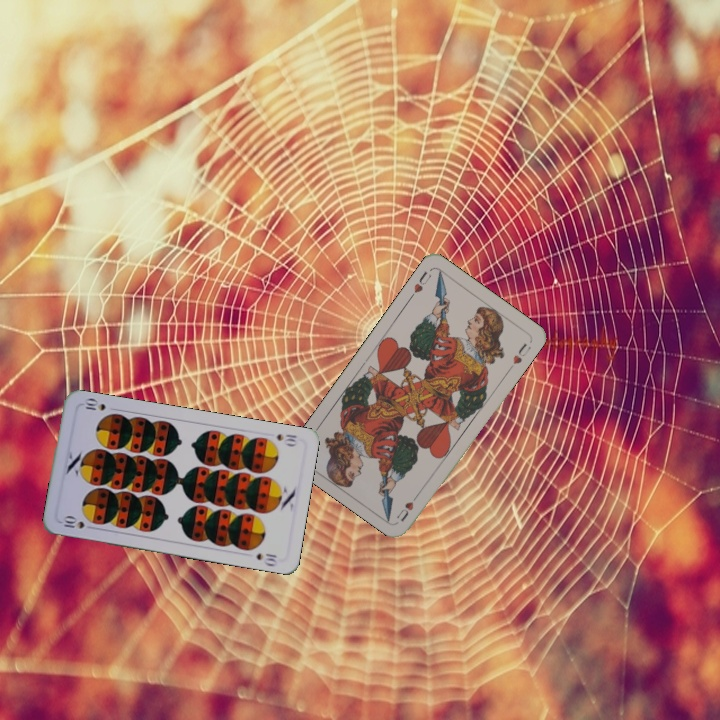HU: (392, 489, 422, 524), (406, 267, 434, 301)
S10: (57, 513, 97, 532), (273, 430, 300, 449)
